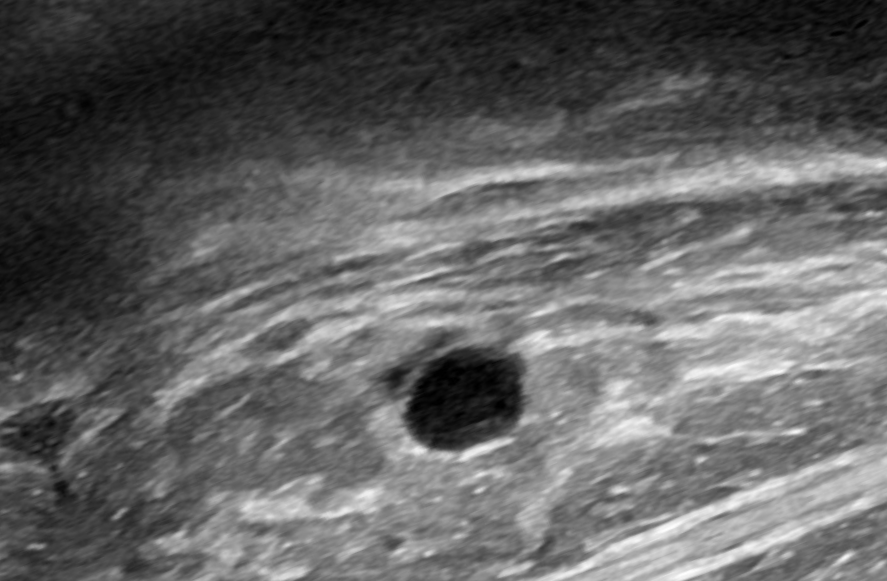Benign: (401, 334, 533, 457)
